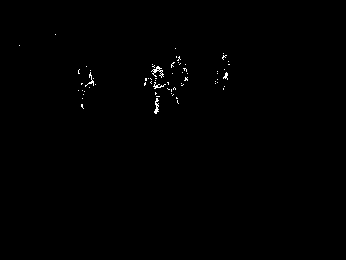person: (143, 61, 166, 118), (166, 54, 188, 105)
